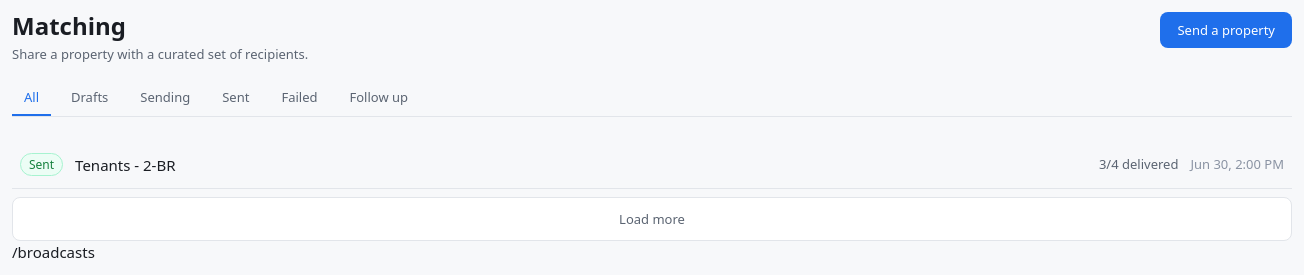
Test: BroadcastsList — load more › appends the next page on Load more and uses the cursor
Check: the list named "Property sends" is shown, box x1=12 y1=141 x2=1292 y2=190
Click the button "Load more".
click(652, 220)  # box x1=12 y1=198 x2=1292 y2=242
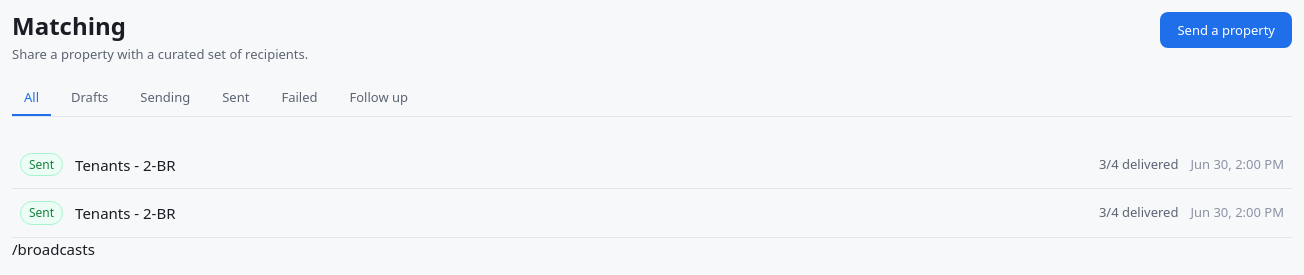
Check: the number of list items is 2, box x1=12 y1=141 x2=1292 y2=190; x1=12 y1=190 x2=1292 y2=238
Check: the button "Load more" is gone
